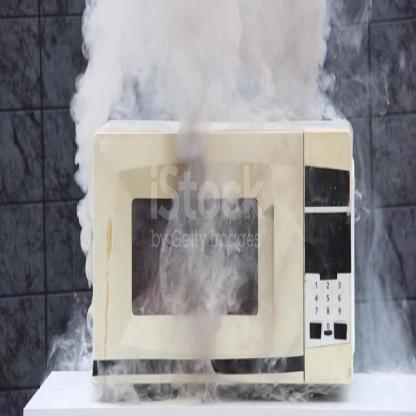smoke: (49, 0, 416, 416)
